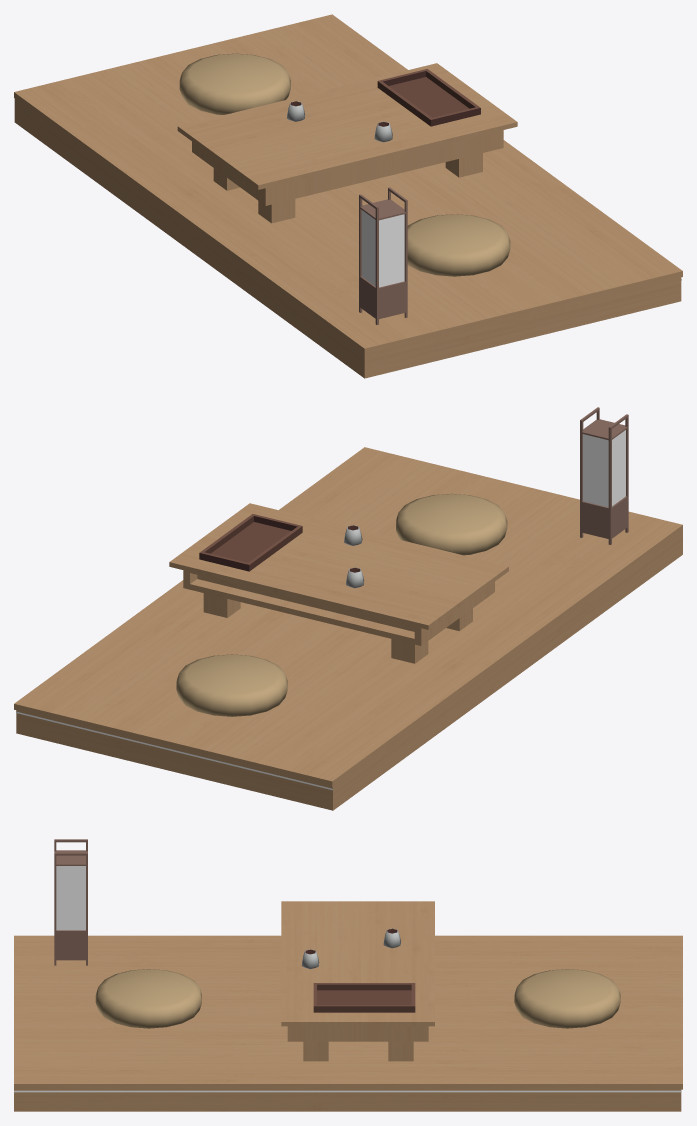
Rendered from M_zawu03.FBX.
3 views of the same model, one above another, from view 1: azimuth 30°, elevation 25°; view 2: azimuth 150°, elevation 25°; view 3: azimuth 270°, elevation 25° (orthographic). The views are drawn at different scales.
Parts seen in each view (by area): view 1: M_zawu03_01, M_zawu03_02, M_zawu03_03, M_zawu03_05; view 2: M_zawu03_01, M_zawu03_02, M_zawu03_03, M_zawu03_05, M_zawu03_04; view 3: M_zawu03_01, M_zawu03_02, M_zawu03_03, M_zawu03_04, M_zawu03_05.
Part boxes in pixels (x1,y1,x2,y2): M_zawu03_01: (14, 14, 682, 378); M_zawu03_02: (179, 53, 510, 276); M_zawu03_03: (287, 69, 480, 324); M_zawu03_05: (362, 210, 404, 287); M_zawu03_01: (14, 447, 682, 810); M_zawu03_02: (176, 493, 507, 716); M_zawu03_03: (199, 407, 628, 588); M_zawu03_05: (583, 430, 625, 507); M_zawu03_04: (16, 711, 332, 790); M_zawu03_01: (14, 901, 682, 1111); M_zawu03_02: (95, 969, 620, 1028); M_zawu03_03: (54, 839, 415, 1012); M_zawu03_04: (14, 1090, 681, 1092); M_zawu03_05: (56, 866, 85, 930).
Size of the model in its own units: 2.86 by 1.26 by 5.45.
